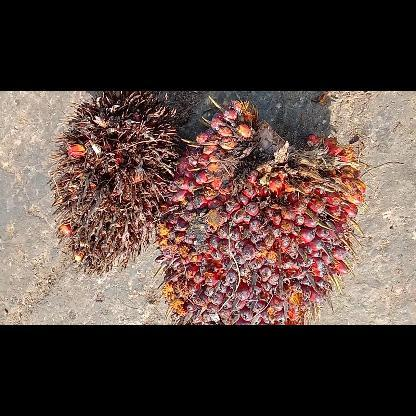TBS masak: (152, 96, 370, 324)
Terlalu masak: (47, 91, 178, 275)
